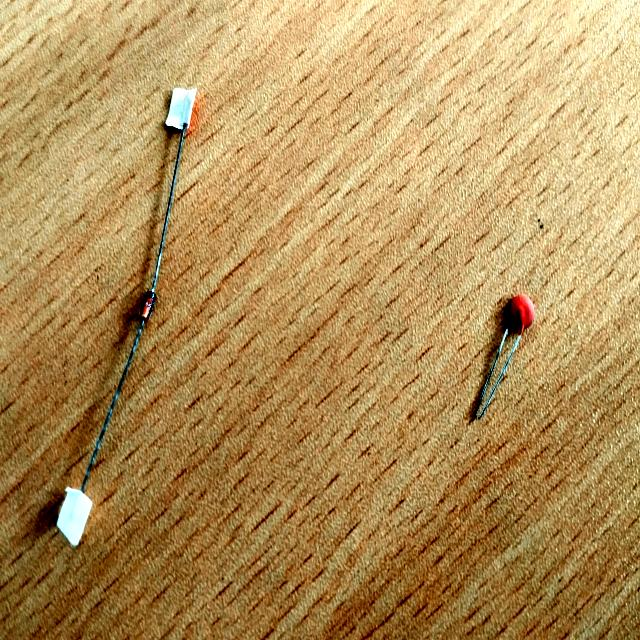capacitor: (476, 294, 535, 404)
